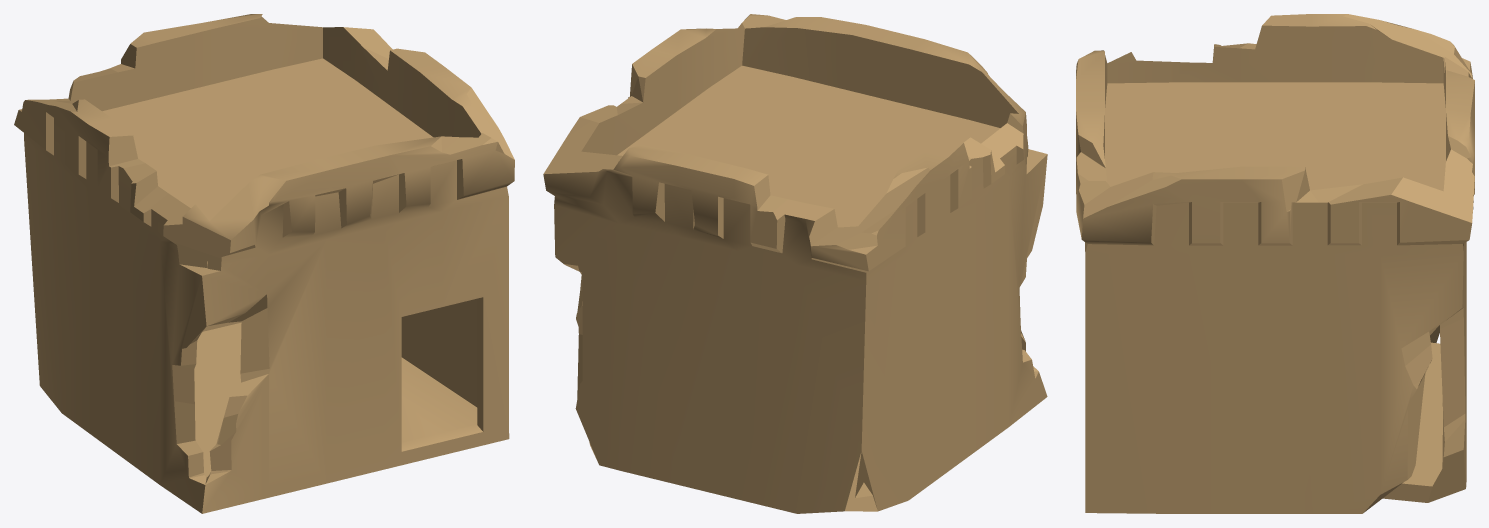
Rendered from Ruins_Building_02.fbx.
3 views of the same model, side by side, from view 1: azimuth 30°, elevation 25°; view 2: azimuth 150°, elevation 25°; view 3: azimuth 270°, elevation 25° (orthographic). The views are drawn at different scales.
Parts seen in each view (by area): view 1: Building_01_Broke_01; view 2: Building_01_Broke_01; view 3: Building_01_Broke_01.
Part boxes in pixels (x1,y1,x2,y2): Building_01_Broke_01: (14,14,514,513); Building_01_Broke_01: (543,14,1047,513); Building_01_Broke_01: (1076,14,1474,513).
Bounding box in the file's own units: 517 × 484 × 518.
